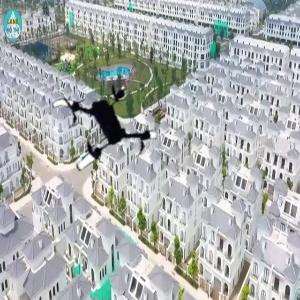drone: (45, 74, 157, 186)
